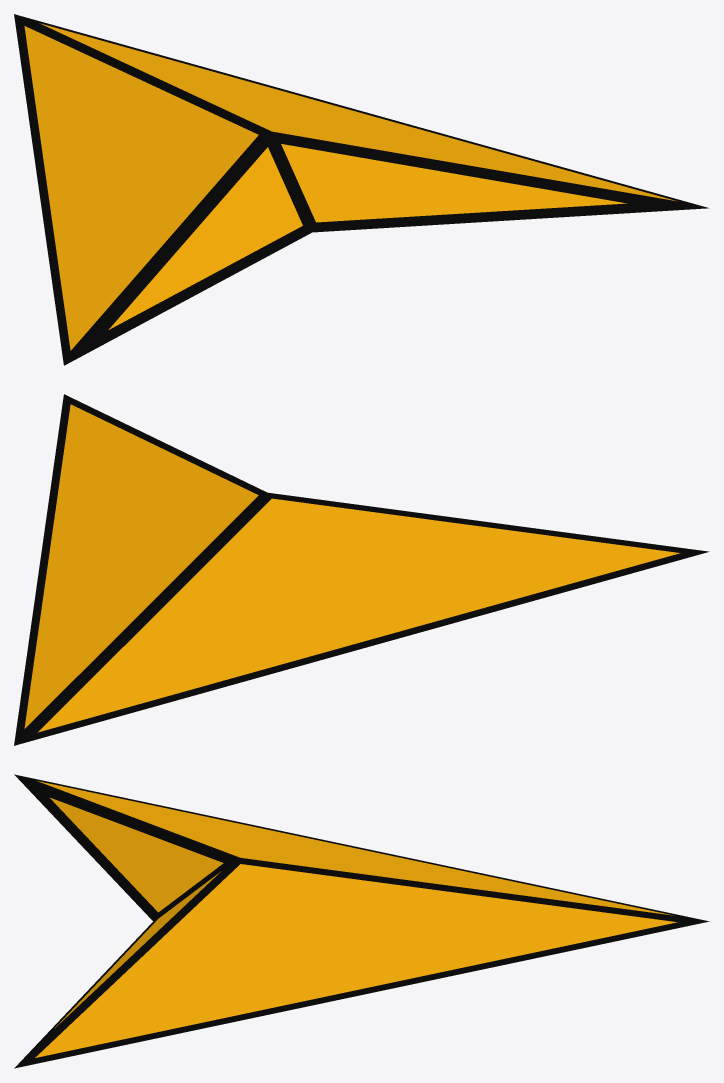
The model's file is LocationMarker_o2.glb.
3 views of the same model, one above another, from view 1: azimuth 30°, elevation 25°; view 2: azimuth 150°, elevation 25°; view 3: azimuth 270°, elevation 25° (orthographic). The views are drawn at different scales.
Parts seen in each view (by area): view 1: /LocationMarker_v1/Body1, /LocationMarker_v1/Body2; view 2: /LocationMarker_v1/Body1, /LocationMarker_v1/Body2; view 3: /LocationMarker_v1/Body1, /LocationMarker_v1/Body2.
Part boxes in pixels (left/top/right/bottom): /LocationMarker_v1/Body1: left=24, top=23, right=676, bottom=350; /LocationMarker_v1/Body2: left=14, top=14, right=709, bottom=365; /LocationMarker_v1/Body1: left=24, top=404, right=680, bottom=732; /LocationMarker_v1/Body2: left=14, top=394, right=709, bottom=745; /LocationMarker_v1/Body1: left=35, top=781, right=676, bottom=1057; /LocationMarker_v1/Body2: left=14, top=774, right=709, bottom=1068.
Bounding box in the file's own units: 50.22 × 5.02 × 50.22.
